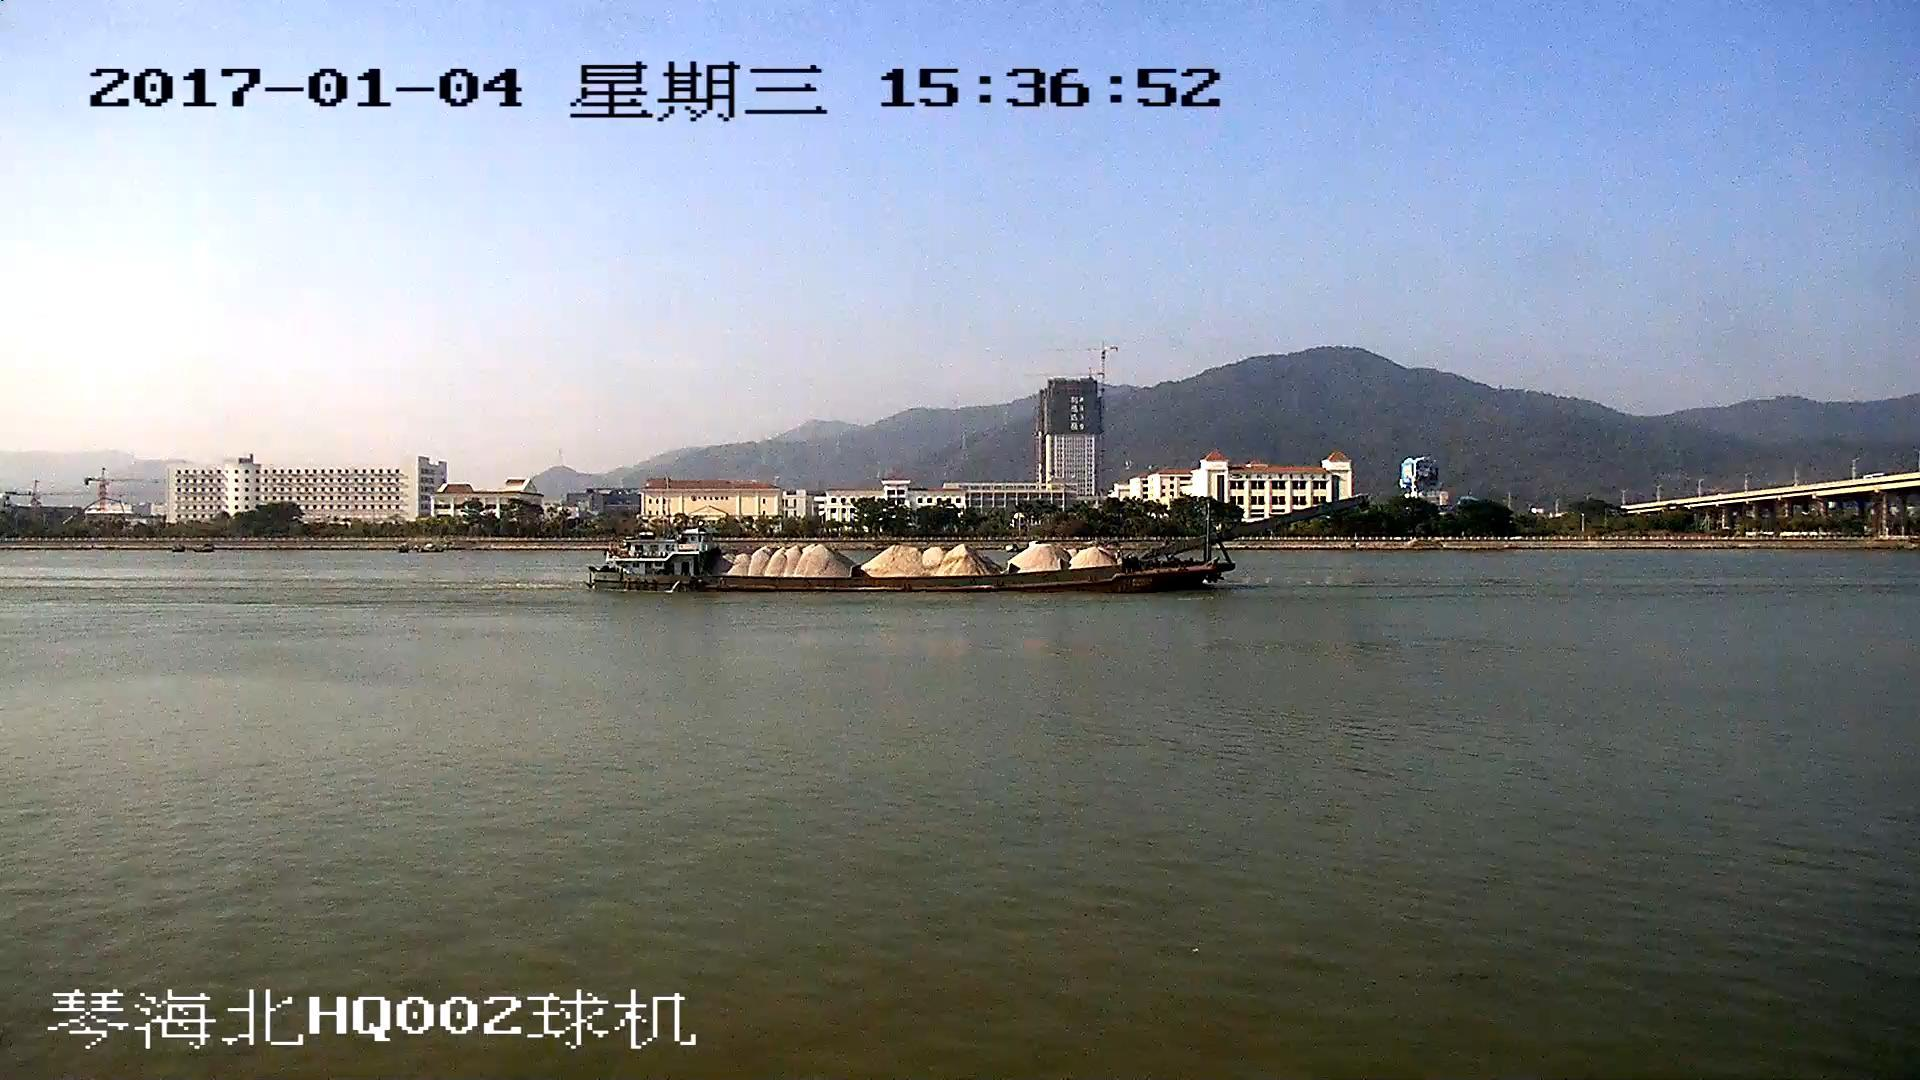Ship: (588, 498, 1366, 597)
